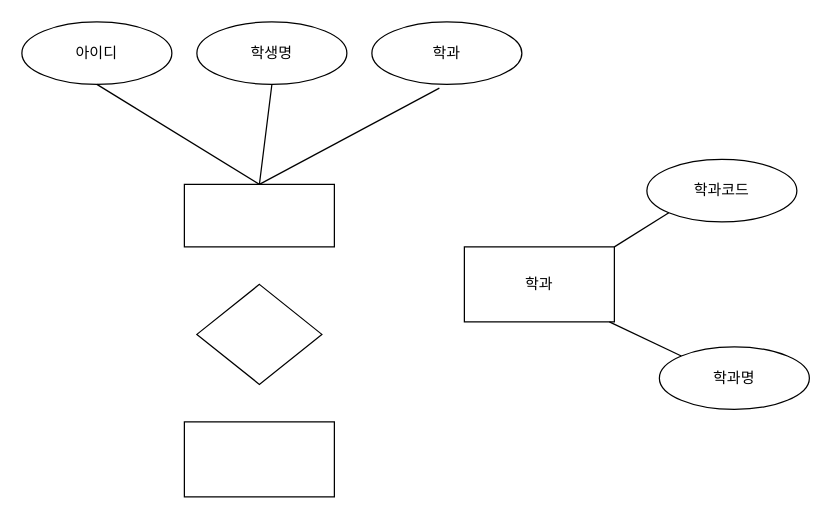
The diagram is 831 pixels wide and 519 high, and some of its shapes have lost their labels. The box of each missing label's shape, as (x1, y1, x2, y2) in pixels:
과목: (183, 421, 334, 497)
수강: (196, 283, 322, 384)
학생: (183, 183, 334, 247)
